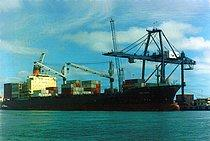Ship: (3, 68, 184, 112)
